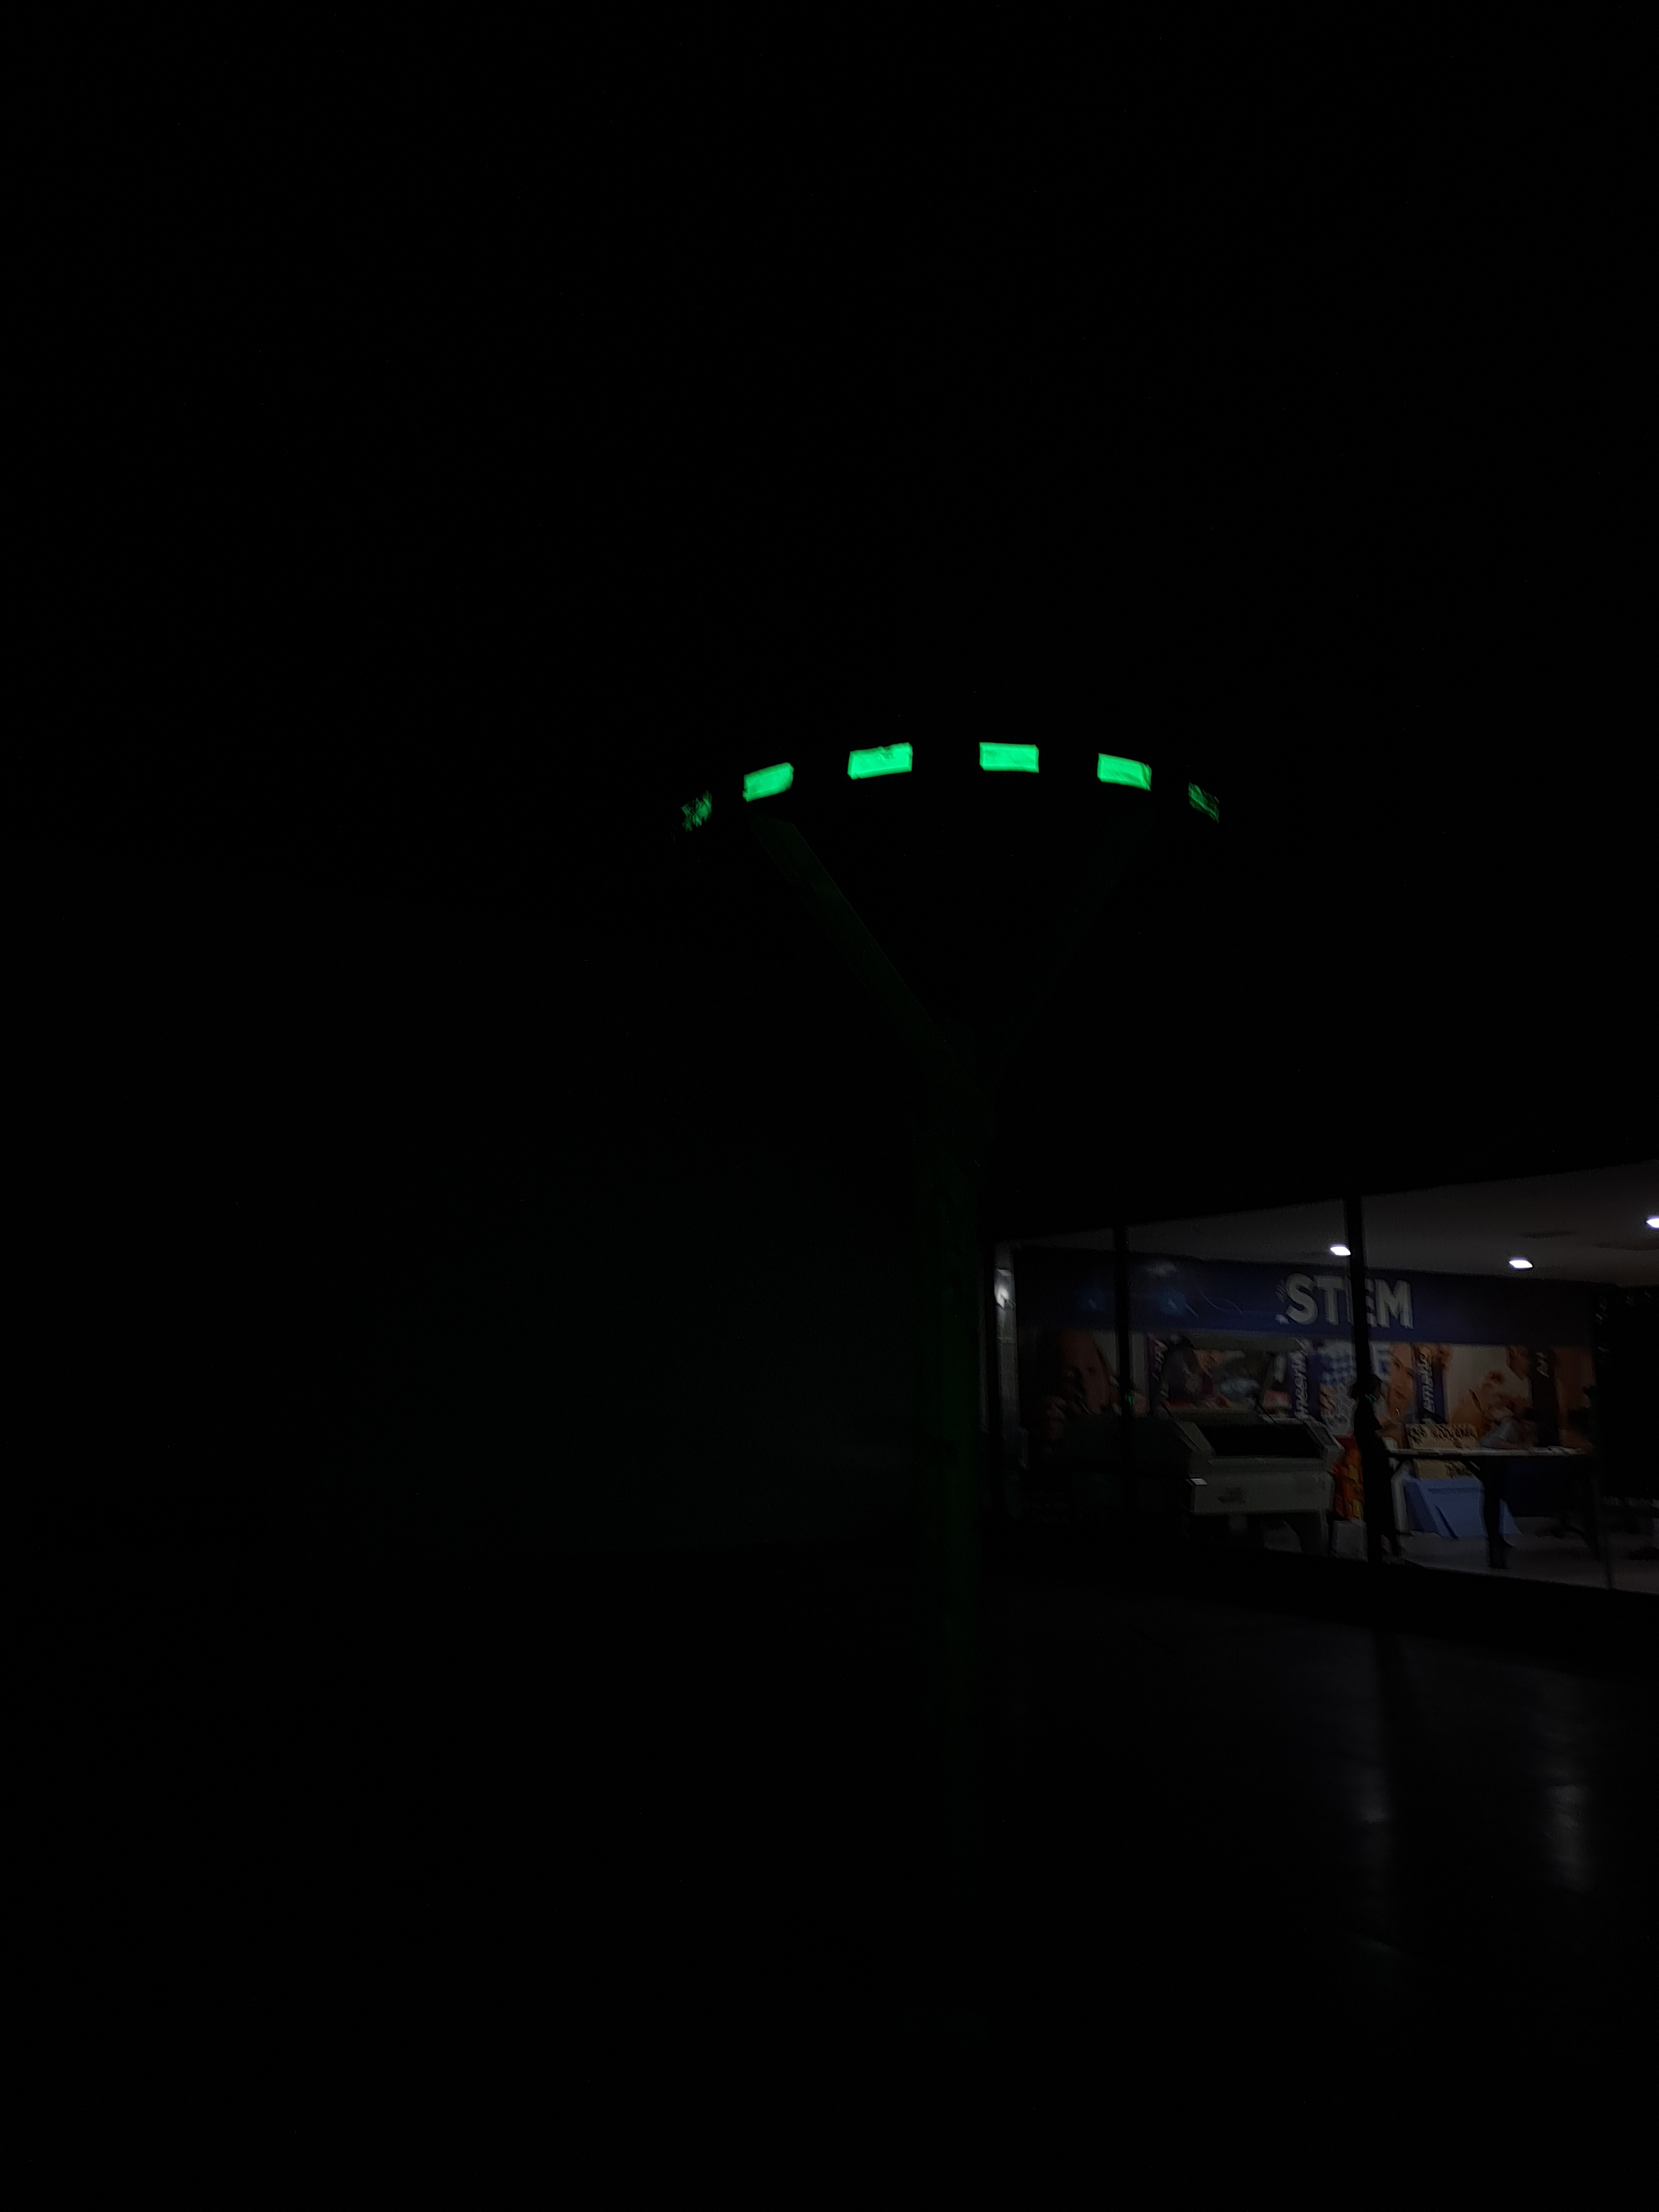hoop: (685, 730, 1216, 840)
